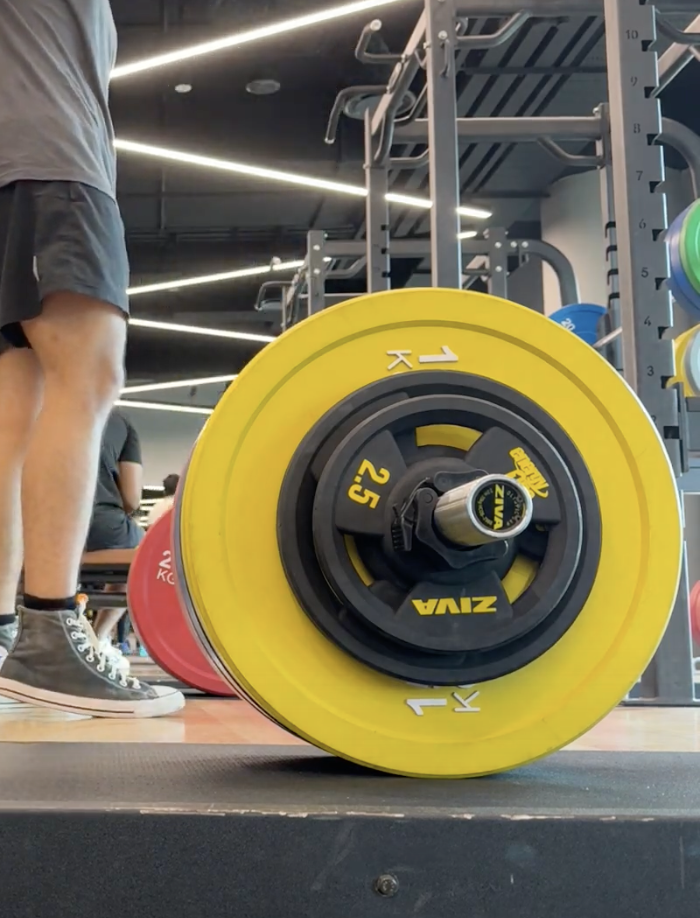barbell: (474, 475, 522, 530)
